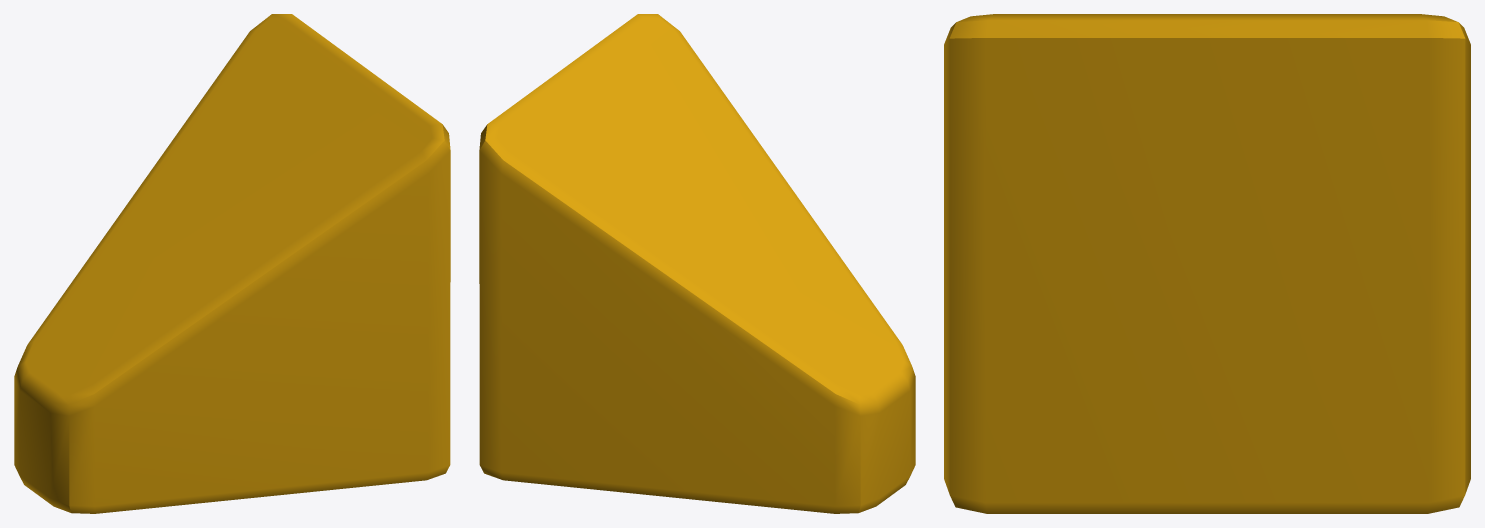
File: cheese_smaller.fbx
The picture shows the model from 3 angles, left to right: view 1: azimuth 30°, elevation 25°; view 2: azimuth 150°, elevation 25°; view 3: azimuth 270°, elevation 25°; orthographic projection. The views are drawn at different scales.
Parts seen in each view (by area): view 1: pCube453; view 2: pCube453; view 3: pCube453.
Part boxes in pixels (x1=…): pCube453: x1=14, y1=14, x2=450, y2=513; pCube453: x1=479, y1=14, x2=915, y2=513; pCube453: x1=944, y1=14, x2=1470, y2=513.
Bounding box in the file's own units: 0.0284 × 0.0282 × 0.0264.
